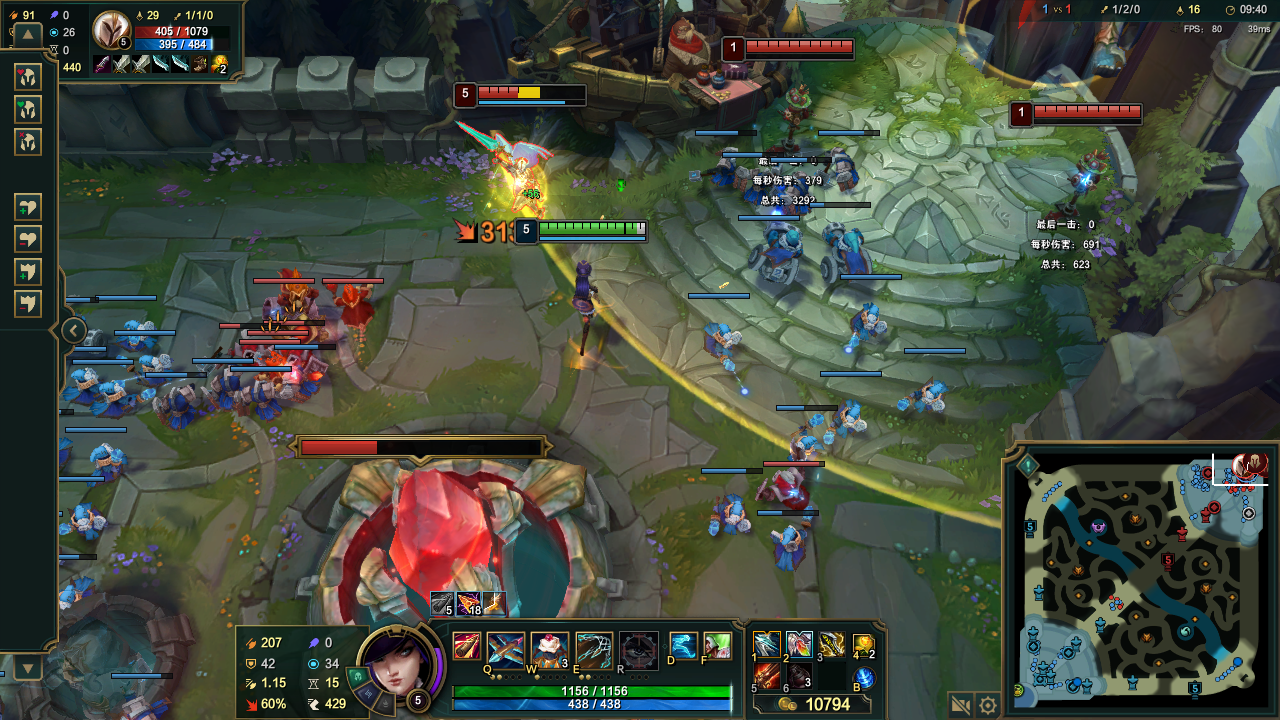DFDSJ: (302, 438, 610, 581)
DFYX: (474, 87, 592, 98), (745, 39, 859, 50), (1034, 105, 1147, 114)
